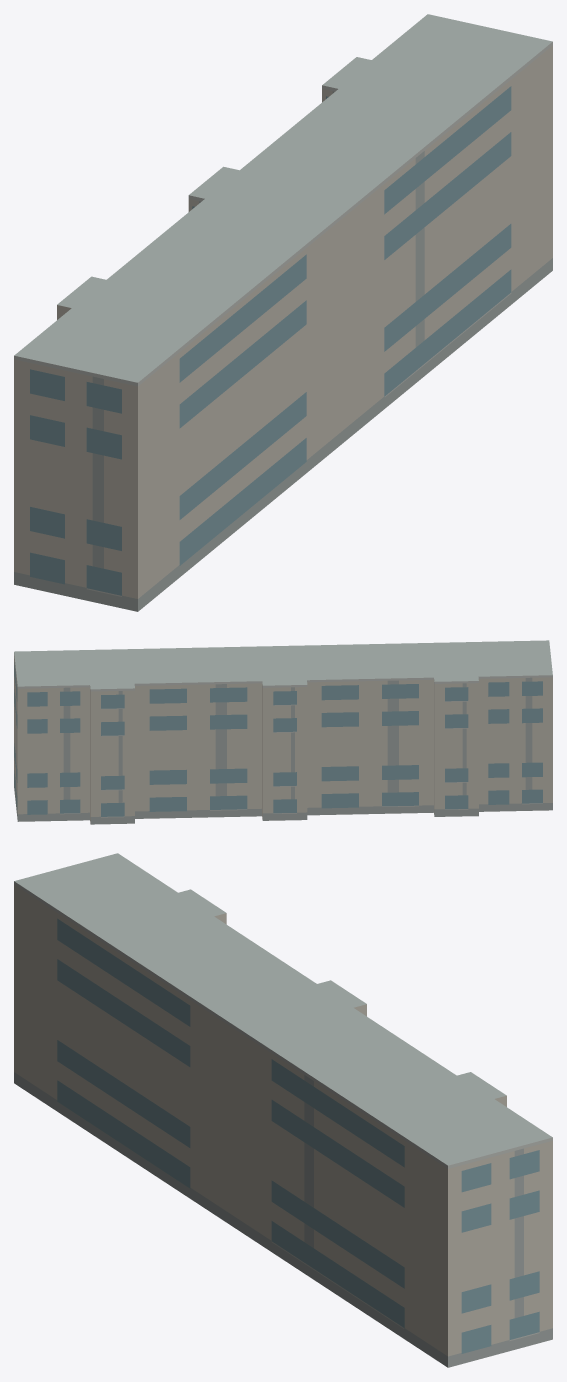
Rendered from survey-upis-32686441.glb.
3 renders of one model, top to bottom at view 1: azimuth 30°, elevation 25°; view 2: azimuth 150°, elevation 25°; view 3: azimuth 270°, elevation 25°, orthographic. The views are drawn at different scales.
Parts seen in each view (by area): view 1: survey-upis-32686441.tmp; view 2: survey-upis-32686441.tmp; view 3: survey-upis-32686441.tmp.
Part boxes in pixels (bbox=[...]): survey-upis-32686441.tmp: bbox=[14, 14, 552, 611]; survey-upis-32686441.tmp: bbox=[14, 640, 552, 824]; survey-upis-32686441.tmp: bbox=[14, 853, 552, 1367].
Bounding box in the file's own units: 50.59 × 15.25 × 36.86.
